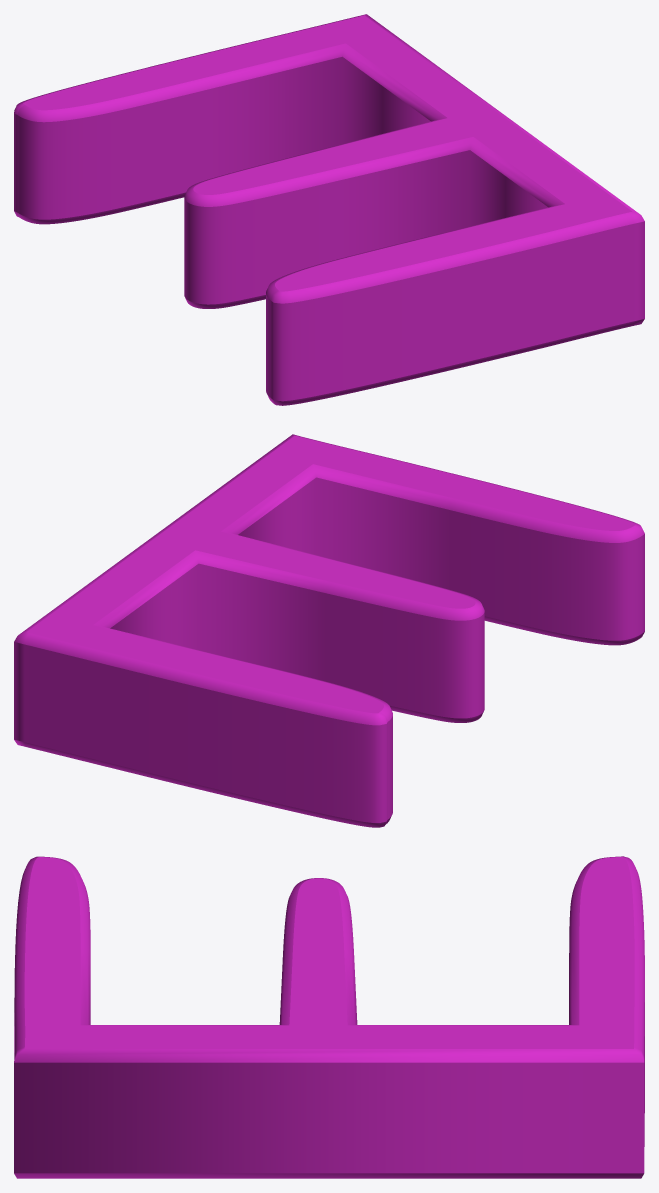
The model's file is Blocky_LetterE.fbx.
3 views of the same model, one above another, from view 1: azimuth 30°, elevation 25°; view 2: azimuth 150°, elevation 25°; view 3: azimuth 270°, elevation 25° (orthographic). The views are drawn at different scales.
Parts seen in each view (by area): view 1: BlockyLetter_E; view 2: BlockyLetter_E; view 3: BlockyLetter_E.
Boxes of the visible parts, left/top/right/bottom form: BlockyLetter_E: left=14, top=14, right=644, bottom=405; BlockyLetter_E: left=14, top=434, right=644, bottom=827; BlockyLetter_E: left=14, top=856, right=644, bottom=1178.
Bounding box in the file's own units: 0.4671 × 0.14 × 0.6191.
